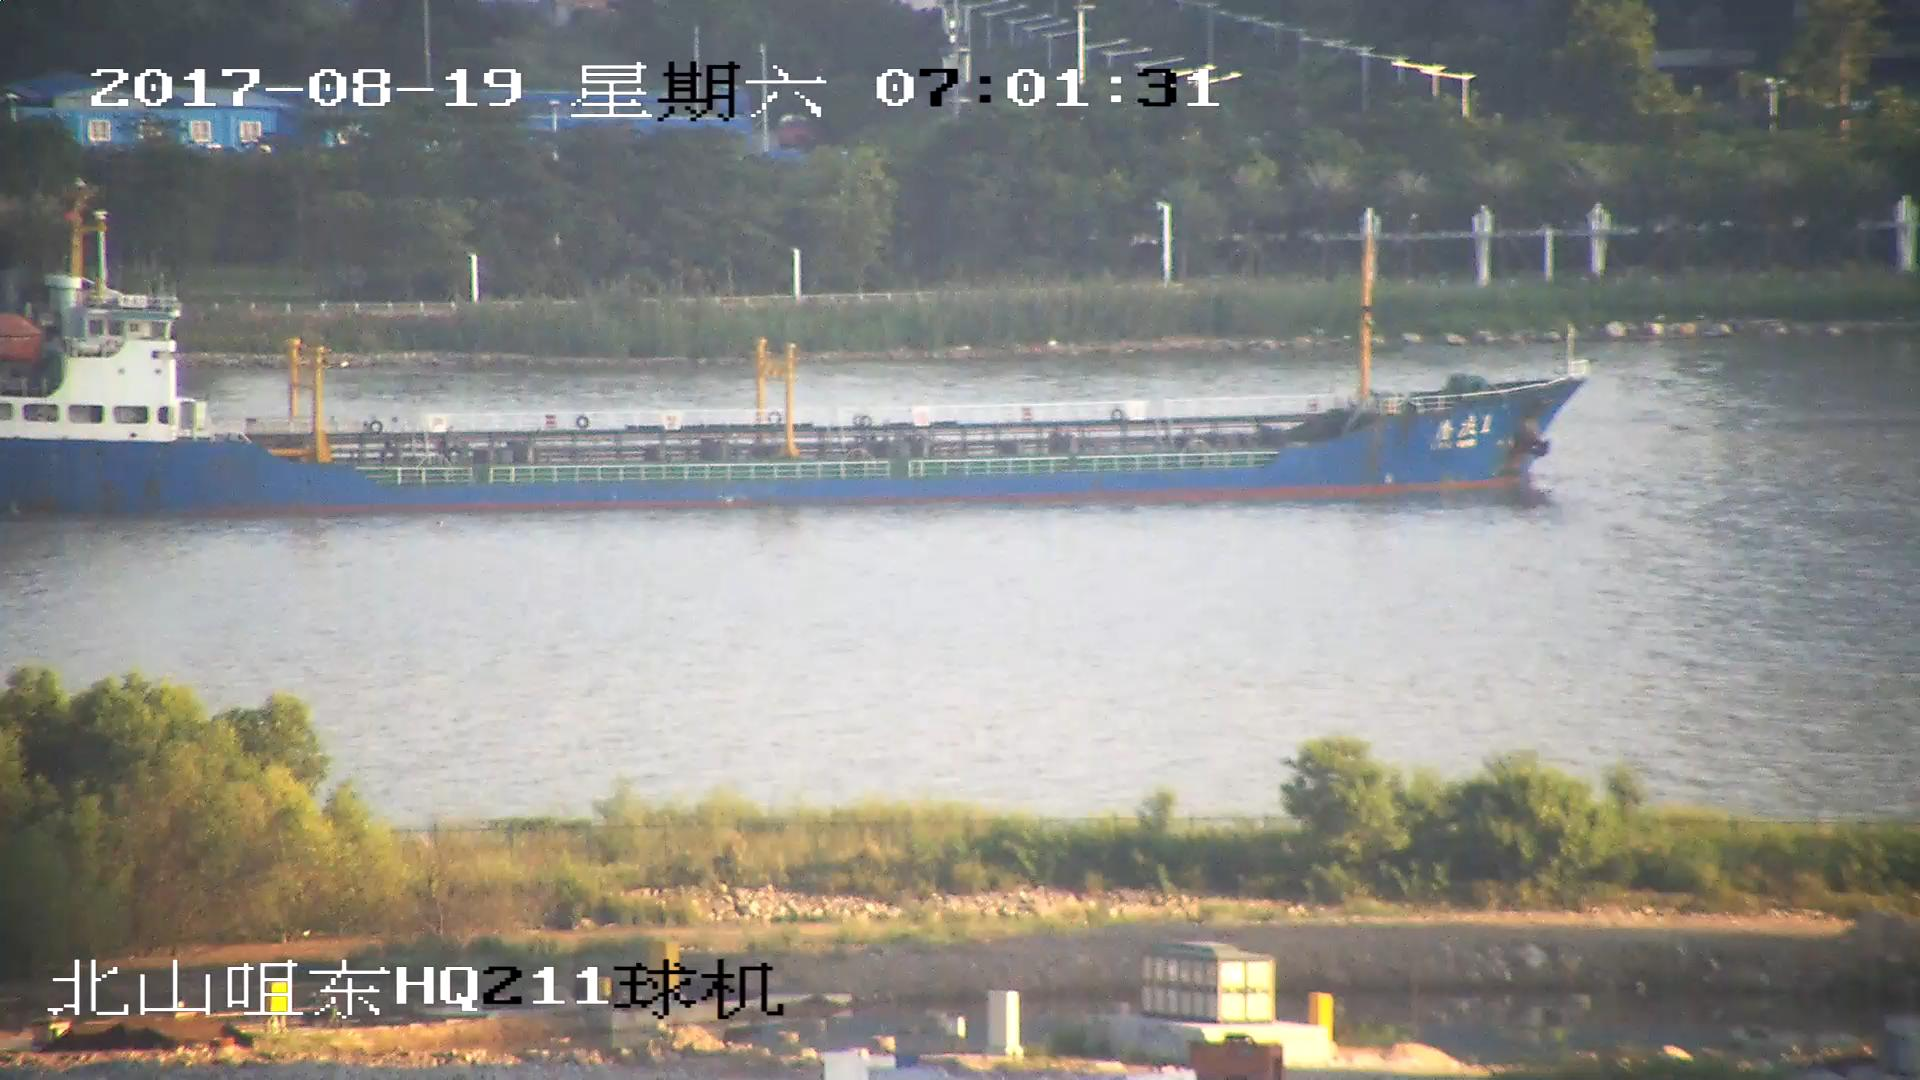general cargo ship: (1, 214, 1577, 506)
